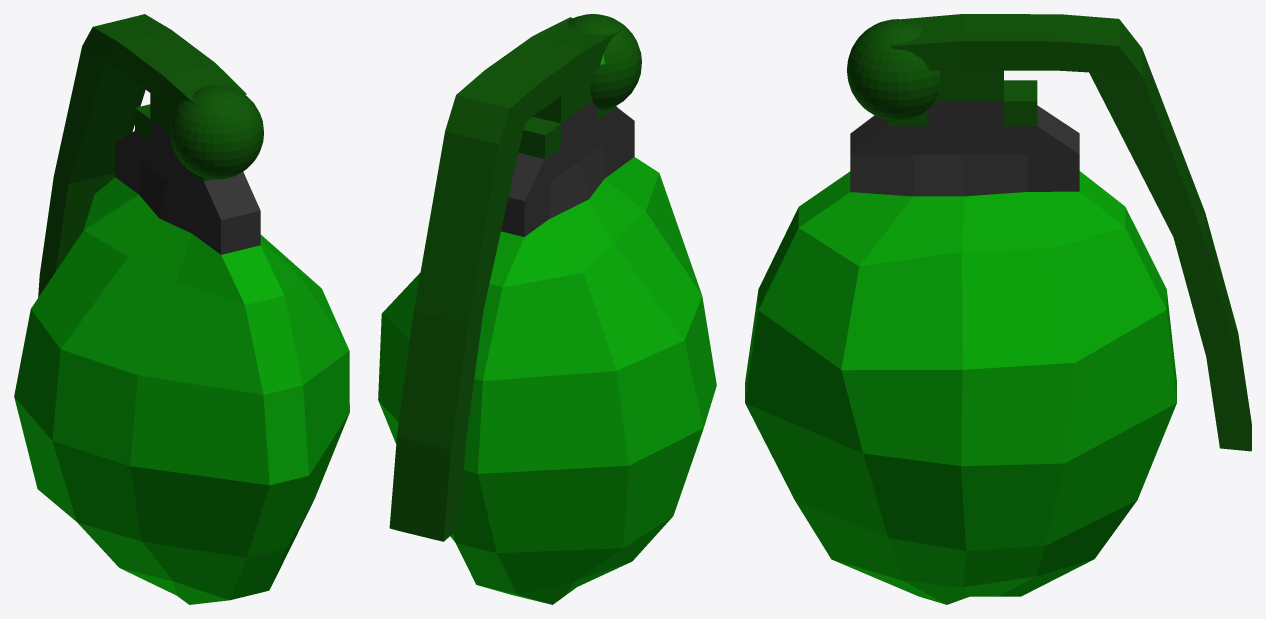
File: Grenade.fbx
3 renders of one model, left to right at view 1: azimuth 30°, elevation 25°; view 2: azimuth 150°, elevation 25°; view 3: azimuth 270°, elevation 25°, orthographic. The views are drawn at different scales.
Visible parts, largest first — view 1: Sphere; view 2: Sphere; view 3: Sphere.
Part boxes in pixels (x1,y1,x2,y2): Sphere: [14, 14, 349, 604]; Sphere: [378, 14, 716, 604]; Sphere: [745, 14, 1251, 604].
Size of the model in its own units: 678 by 1214 by 994.
